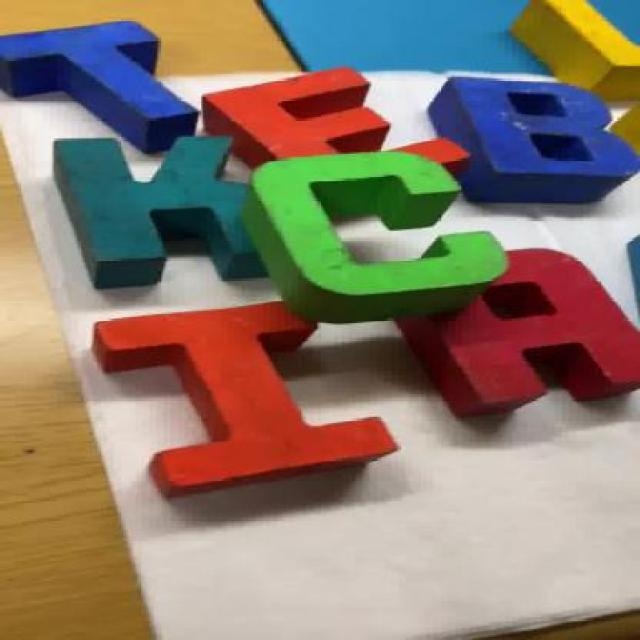A: (401, 243, 619, 431)
B: (441, 76, 639, 199)
C: (248, 153, 522, 316)
E: (184, 66, 453, 185)
I: (86, 297, 394, 500)
K: (33, 139, 275, 295)
T: (0, 17, 211, 148)
